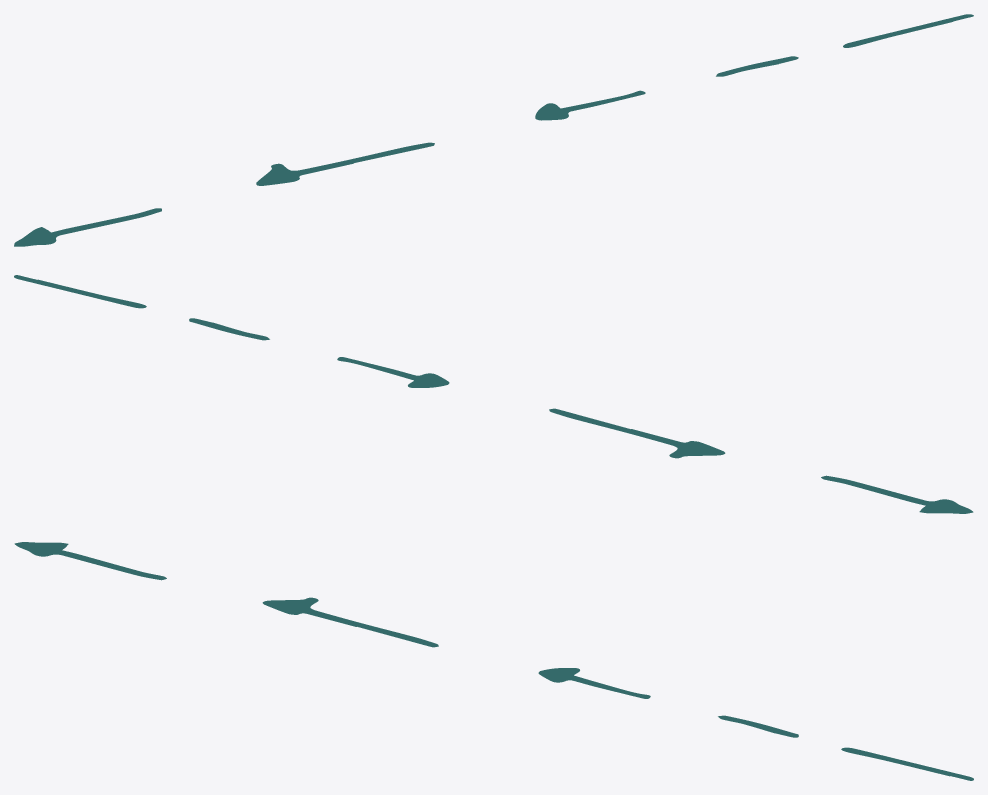
The model's file is lines3v2.dae.
3 renders of one model, top to bottom at view 1: azimuth 30°, elevation 25°; view 2: azimuth 150°, elevation 25°; view 3: azimuth 330°, elevation 25°, orthographic.
Visible parts, largest first — view 1: Curve.004; view 2: Curve.004; view 3: Curve.004.
Part boxes in pixels (x1,y1,x2,y2): Curve.004: (14, 14, 973, 246); Curve.004: (14, 275, 973, 513); Curve.004: (14, 542, 973, 780).
Size of the model in its own units: 2.39 by 0.1128 by 0.
